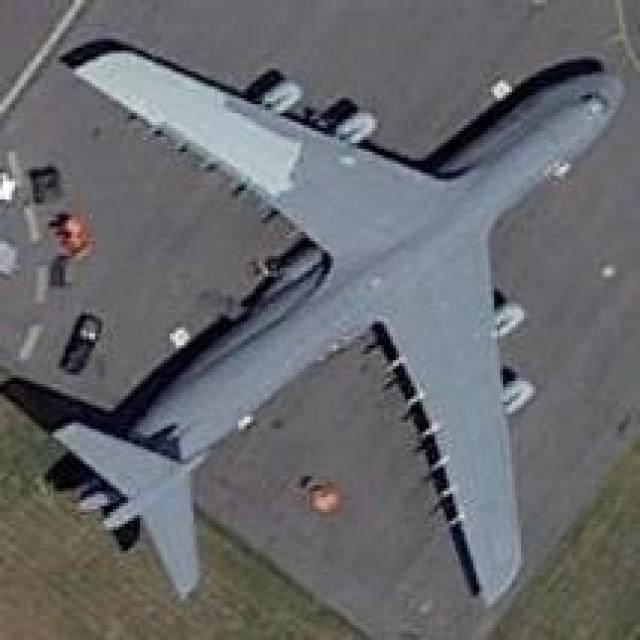C-5_TopDown: (0, 36, 626, 605)
